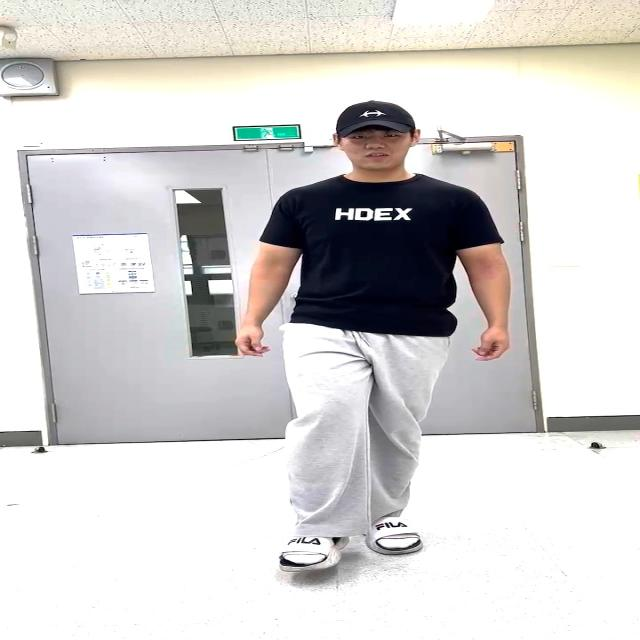leg: (276, 332, 364, 577)
